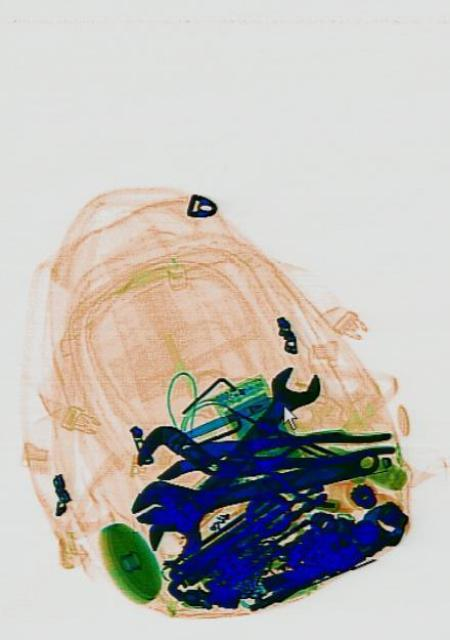Wrench: (142, 346, 324, 576), (125, 433, 381, 539)
